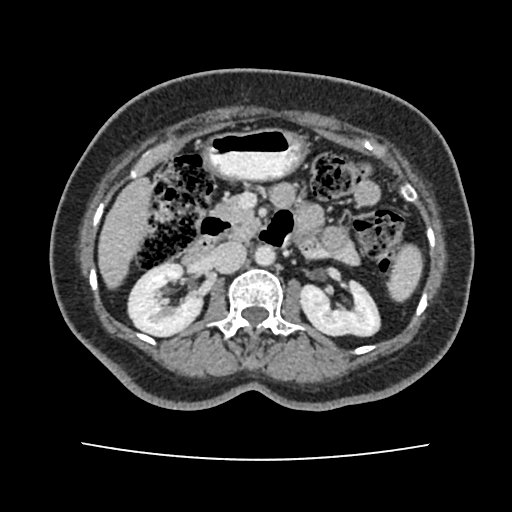aorta: (253, 242, 278, 268)
